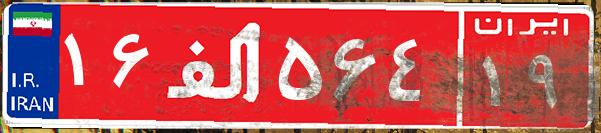1: (57, 26, 110, 107), (475, 38, 525, 113)
4: (385, 28, 445, 110)
5: (273, 28, 330, 110)
6: (330, 28, 385, 110), (110, 28, 158, 105)
9: (525, 38, 570, 115)
الف: (158, 15, 273, 115)
